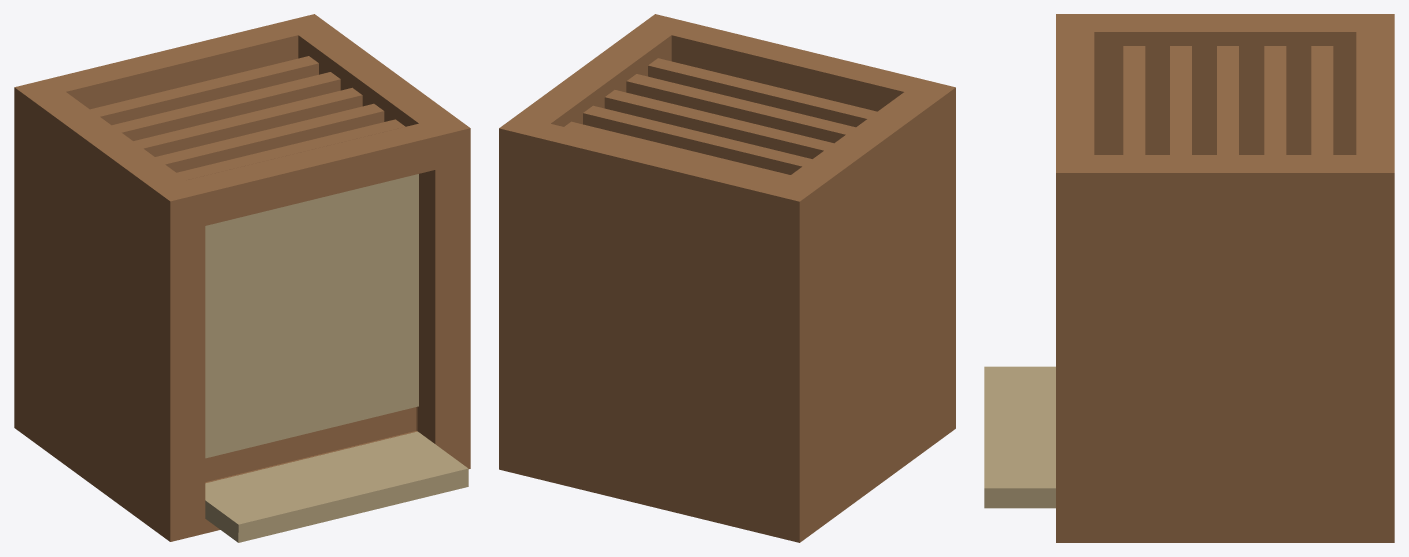
Rendered from Beehive_1 Open.fbx.
3 renders of one model, left to right at view 1: azimuth 30°, elevation 25°; view 2: azimuth 150°, elevation 25°; view 3: azimuth 270°, elevation 25°, orthographic. The views are drawn at different scales.
Parts seen in each view (by area): view 1: BeehiveOpen_mesh; view 2: BeehiveOpen_mesh; view 3: BeehiveOpen_mesh.
Boxes of the visible parts, x1,y1,x2,y2 form: BeehiveOpen_mesh: [14, 14, 470, 542]; BeehiveOpen_mesh: [499, 14, 955, 542]; BeehiveOpen_mesh: [984, 14, 1394, 542].
Size of the model in its own units: 59.22 by 64.21 by 64.57.
